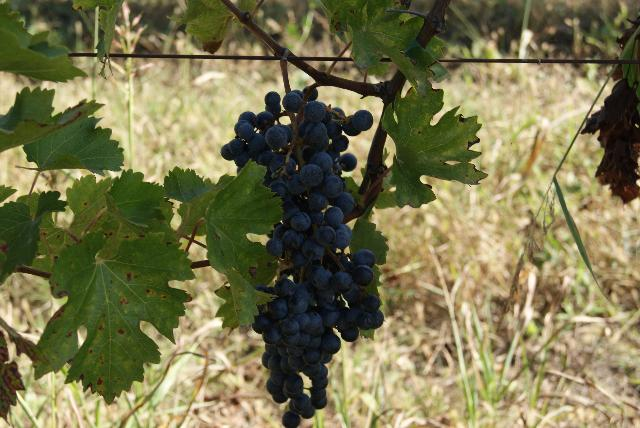grapes: (221, 91, 372, 258), (252, 249, 384, 428)
